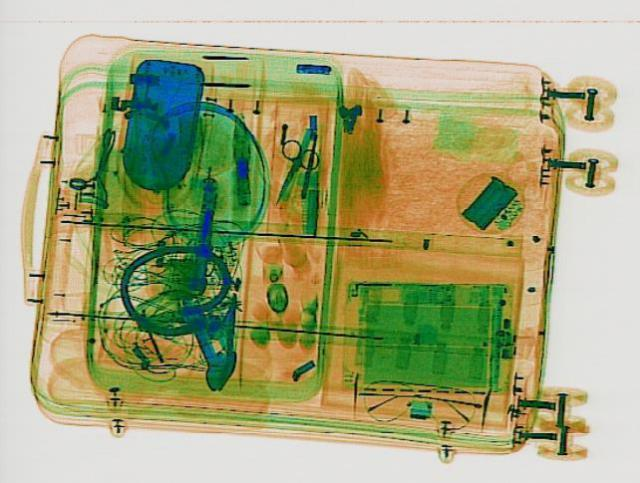Scissors: (252, 137, 326, 210)
